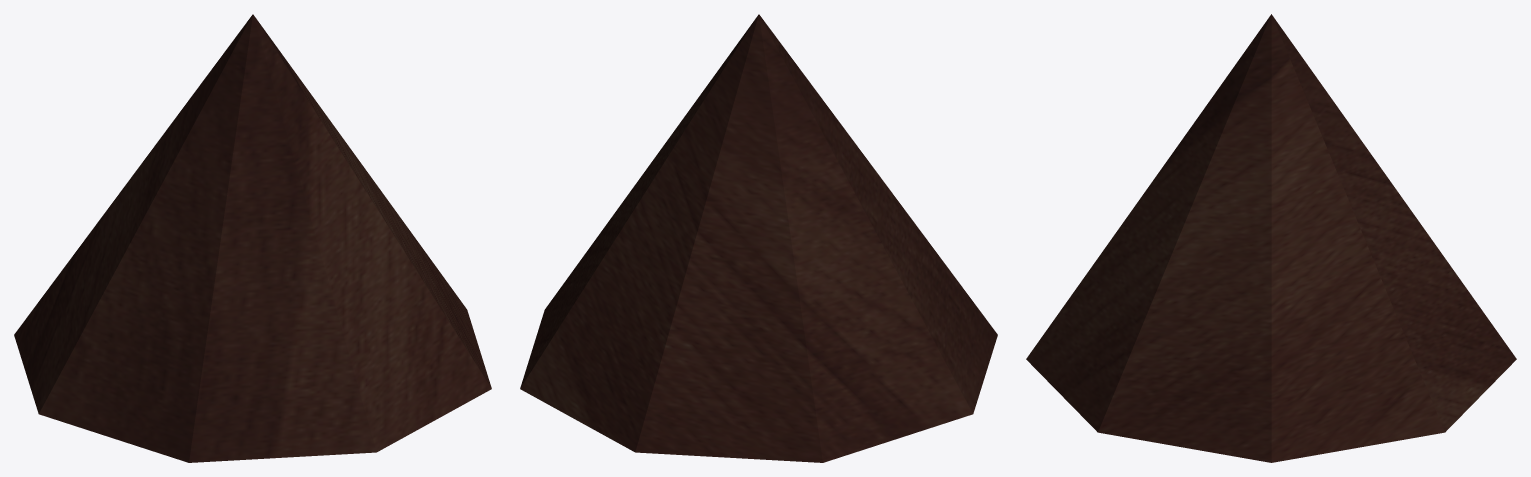
The model's file is LOBROOF.fbx.
3 views of the same model, side by side, from view 1: azimuth 30°, elevation 25°; view 2: azimuth 150°, elevation 25°; view 3: azimuth 270°, elevation 25° (orthographic).
Visible parts, largest first — view 1: pCone9; view 2: pCone9; view 3: pCone9.
Boxes of the visible parts, x1=… form: pCone9: x1=14, y1=14, x2=491, y2=462; pCone9: x1=520, y1=14, x2=997, y2=462; pCone9: x1=1026, y1=14, x2=1516, y2=462.
Bounding box in the file's own units: 49.77 × 38.62 × 49.77.
1 material, 1 textured.
